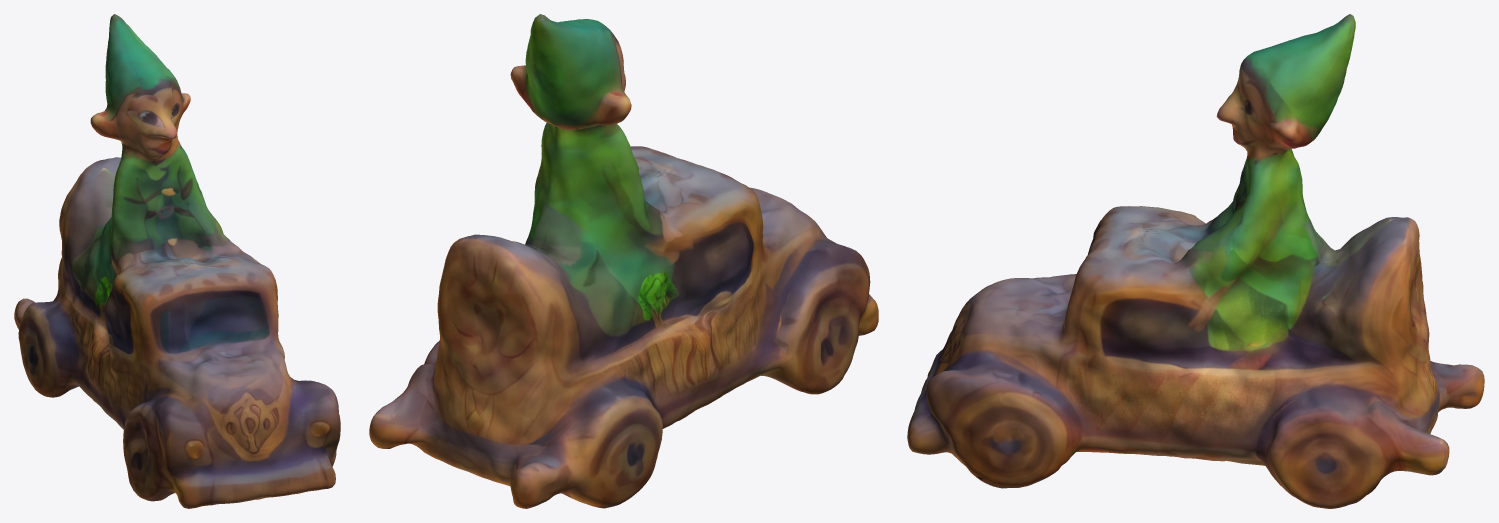
File: small_forest_tree_elf_0717034103_refine.fbx
3 renders of one model, left to right at view 1: azimuth 30°, elevation 25°; view 2: azimuth 150°, elevation 25°; view 3: azimuth 270°, elevation 25°, orthographic. The views are drawn at different scales.
Visible parts, largest first — view 1: Mesh_0; view 2: Mesh_0; view 3: Mesh_0.
Part boxes in pixels (x1,y1,x2,y2): Mesh_0: (14, 14, 340, 508); Mesh_0: (369, 14, 878, 508); Mesh_0: (907, 14, 1484, 508).
Bounding box in the file's own units: 59.68 × 101 × 120.
Materials: 1 (1 with a texture image).
